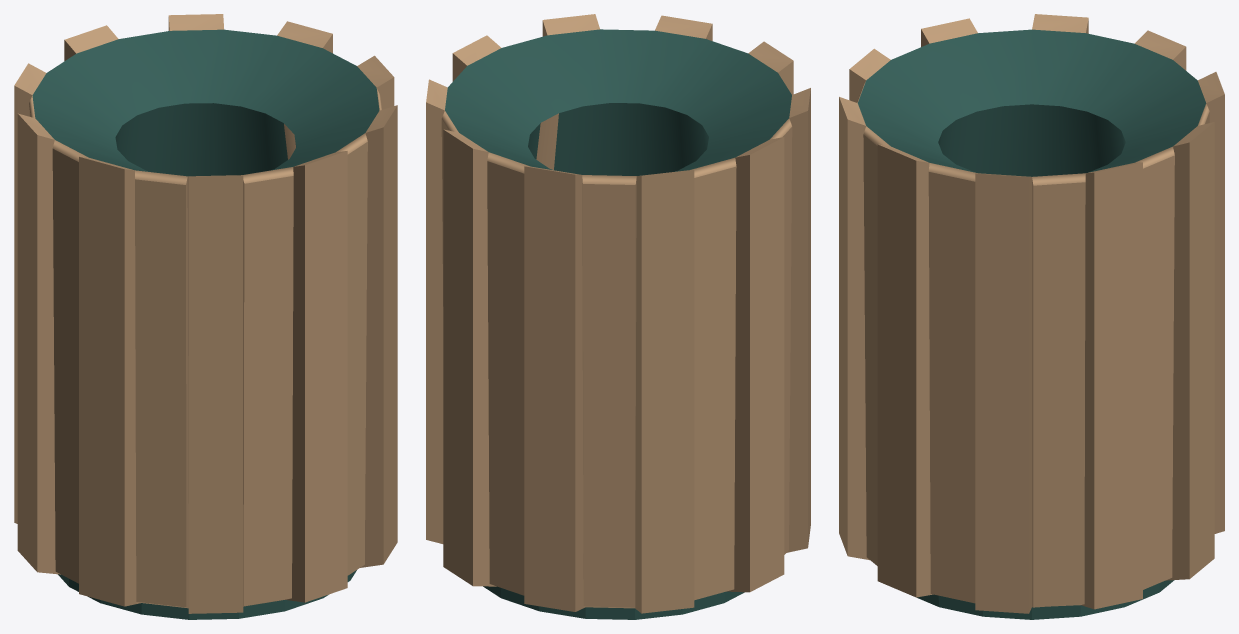
Rendered from Park_prullenbak.fbx.
3 renders of one model, left to right at view 1: azimuth 30°, elevation 25°; view 2: azimuth 150°, elevation 25°; view 3: azimuth 270°, elevation 25°, orthographic.
Parts seen in each view (by area): view 1: pPipe1; view 2: pPipe1; view 3: pPipe1.
Part boxes in pixels (left/top/right/bottom): pPipe1: left=14, top=14, right=397, bottom=619; pPipe1: left=426, top=14, right=810, bottom=619; pPipe1: left=839, top=14, right=1224, bottom=619.
Bounding box in the file's own units: 4.48 × 5.87 × 4.48.
